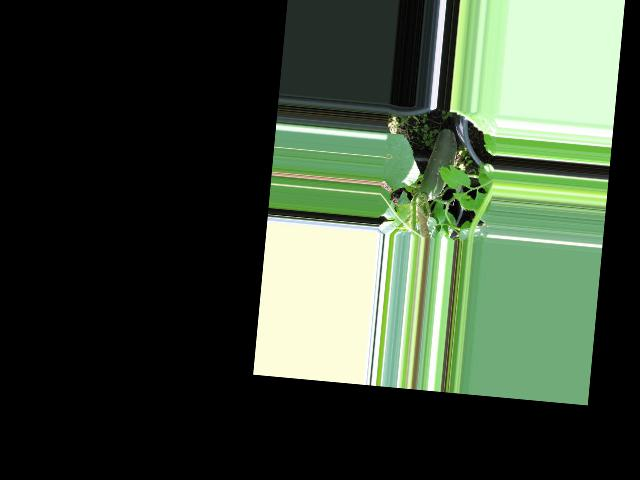cucumber: (419, 127, 458, 202)
